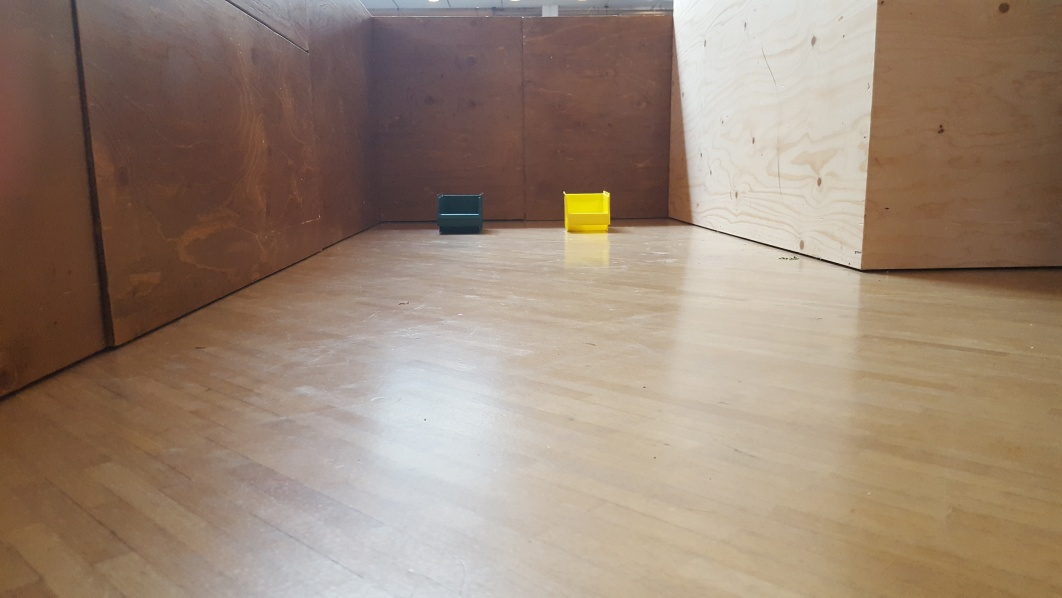tray: (554, 187, 617, 241), (433, 189, 486, 237)
